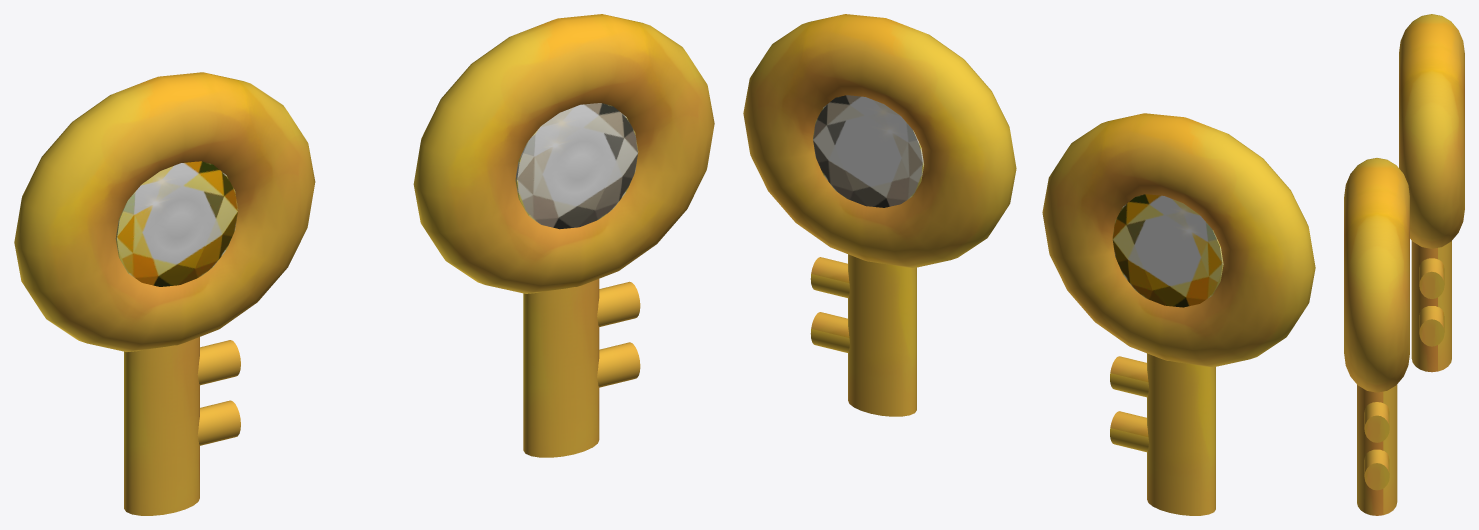
Rendered from key new.fbx.
The picture shows the model from 3 angles, left to right: view 1: azimuth 30°, elevation 25°; view 2: azimuth 150°, elevation 25°; view 3: azimuth 270°, elevation 25°; orthographic projection. The views are drawn at different scales.
Visible parts, largest first — view 1: key:key:key:pCylinder4, key:key:pTorus1; view 2: key:key:key:pCylinder4, key:key:pTorus1; view 3: key:key:key:pCylinder4, key:key:pTorus1.
Boxes of the visible parts, left/top/right/bottom form: key:key:key:pCylinder4: left=413, top=14, right=714, bottom=457; key:key:pTorus1: left=14, top=72, right=315, bottom=515; key:key:key:pCylinder4: left=743, top=14, right=1016, bottom=416; key:key:pTorus1: left=1042, top=113, right=1315, bottom=515; key:key:key:pCylinder4: left=1344, top=158, right=1409, bottom=515; key:key:pTorus1: left=1399, top=14, right=1464, bottom=372.
Size of the model in its own units: 4.27 by 2.66 by 0.8658.
Materials: 2 (2 with a texture image).
